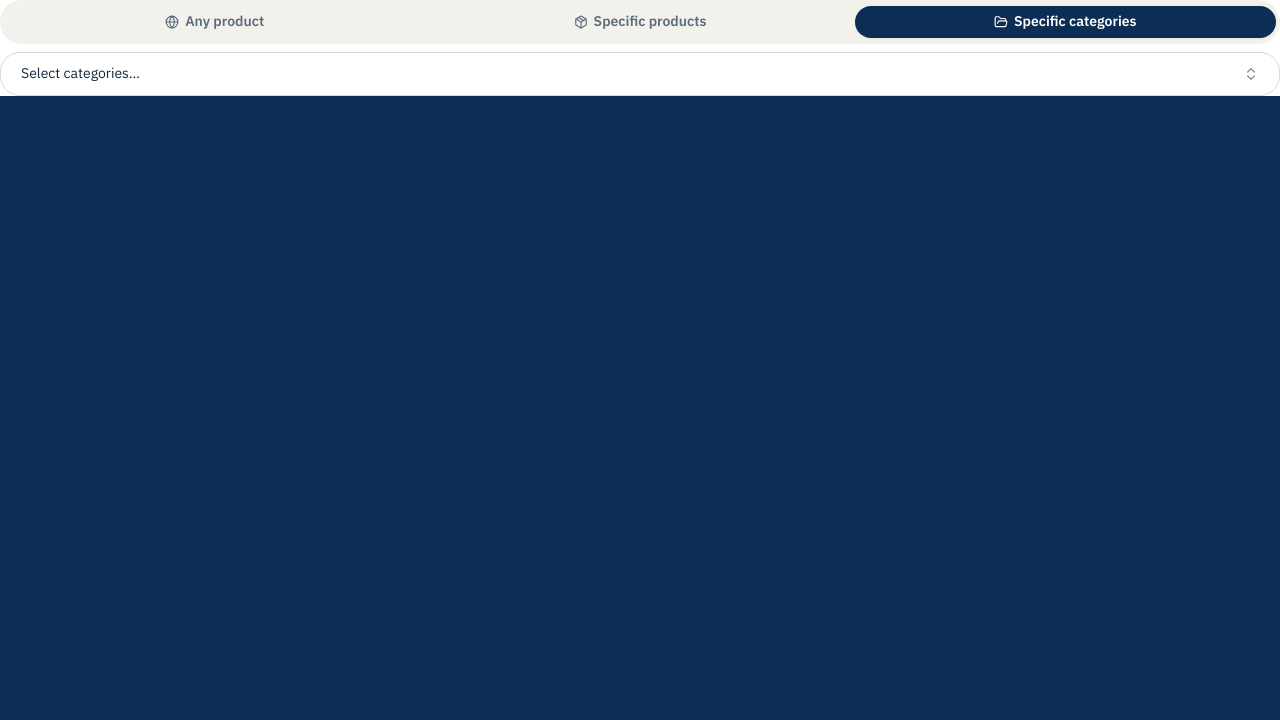
search › does not fetch at all without a store id
Click the dropdown at (81, 74), box [0,52,1279,96]
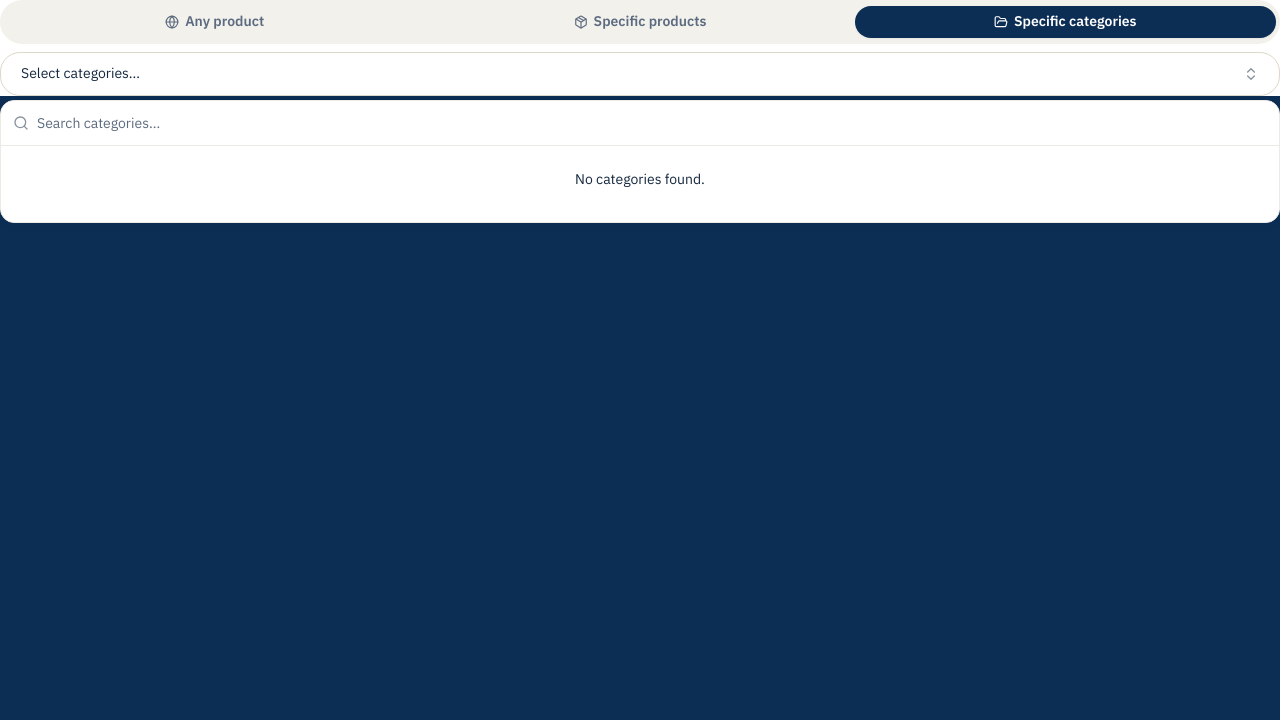
Result: the dropdown with placeholder "Search categories…" is shown at [37,101,1267,145]
